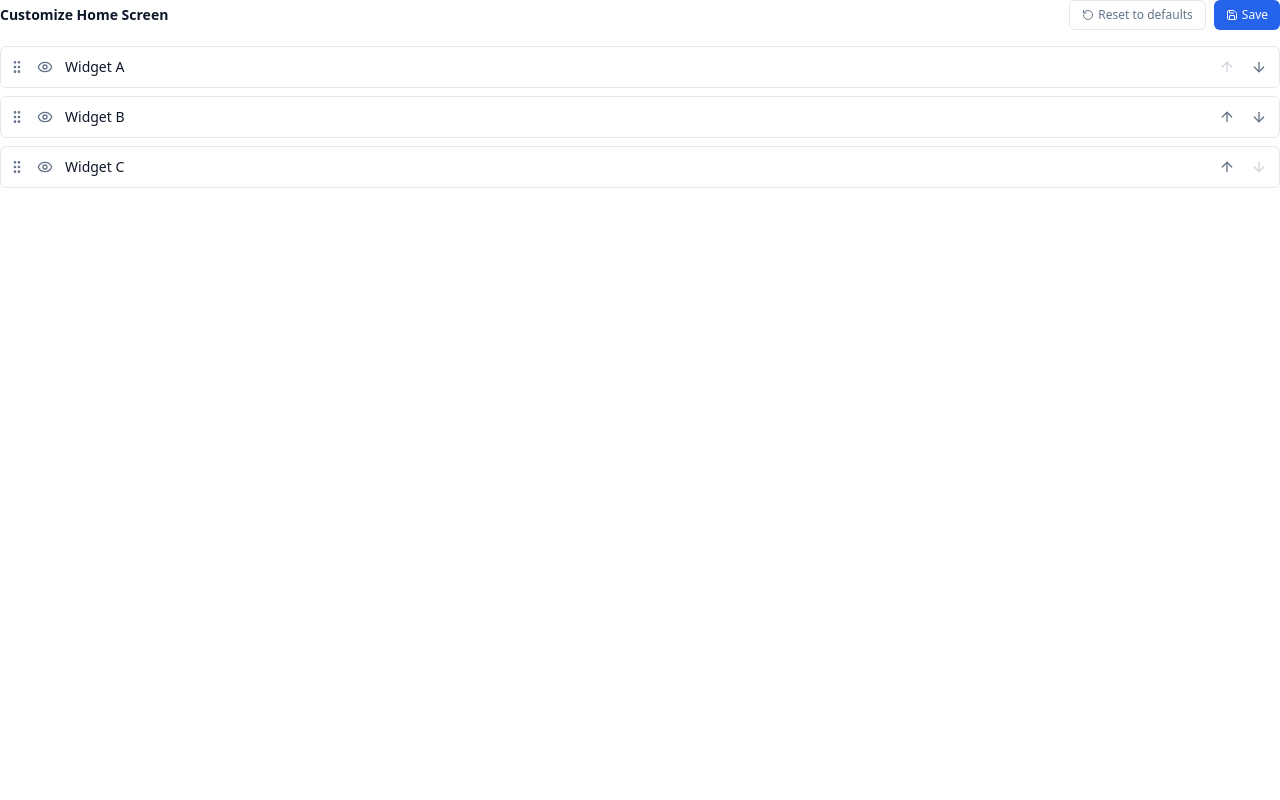
Scenario: HomeLayoutEditor › shows reset confirmation dialog on reset click
Click the button with test id "editor-reset".
click(1138, 15)  # box [1069,0,1206,30]
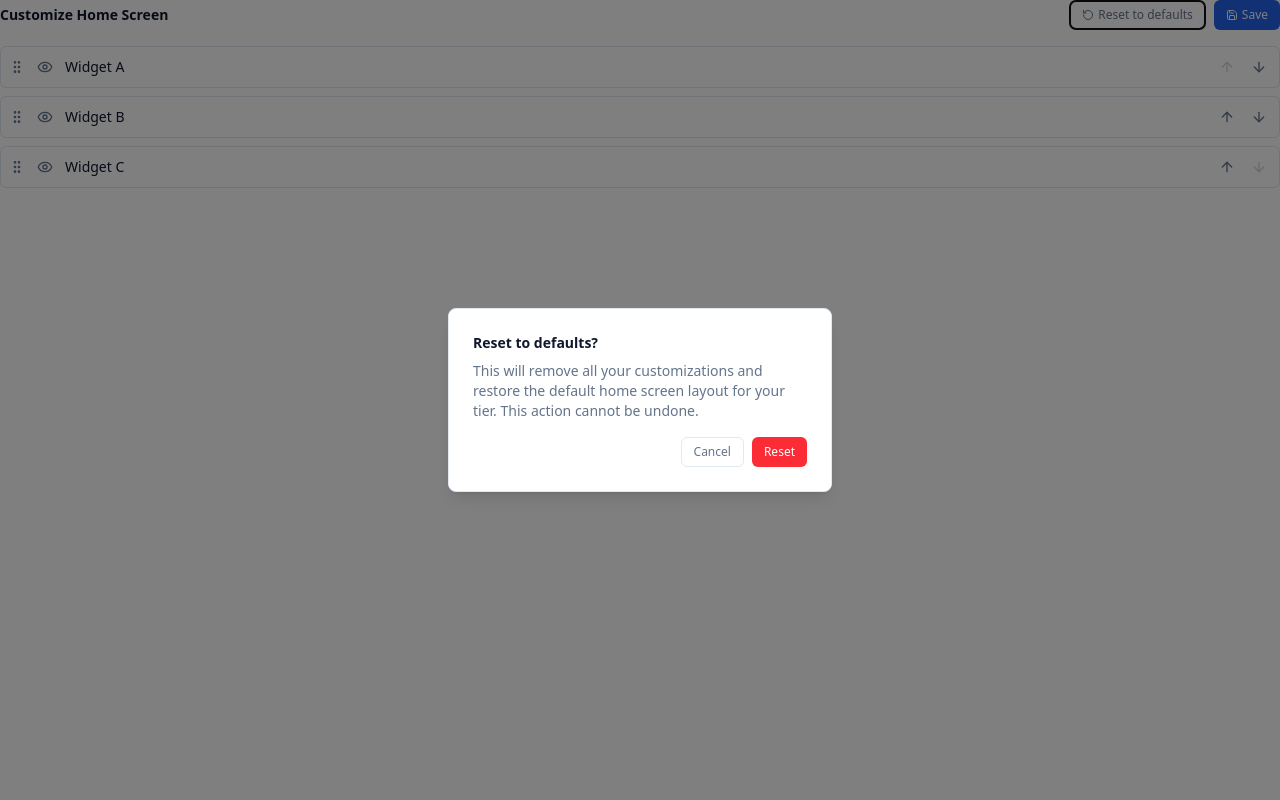
expect the dialog with test id "reset-confirm-dialog" is shown: met
